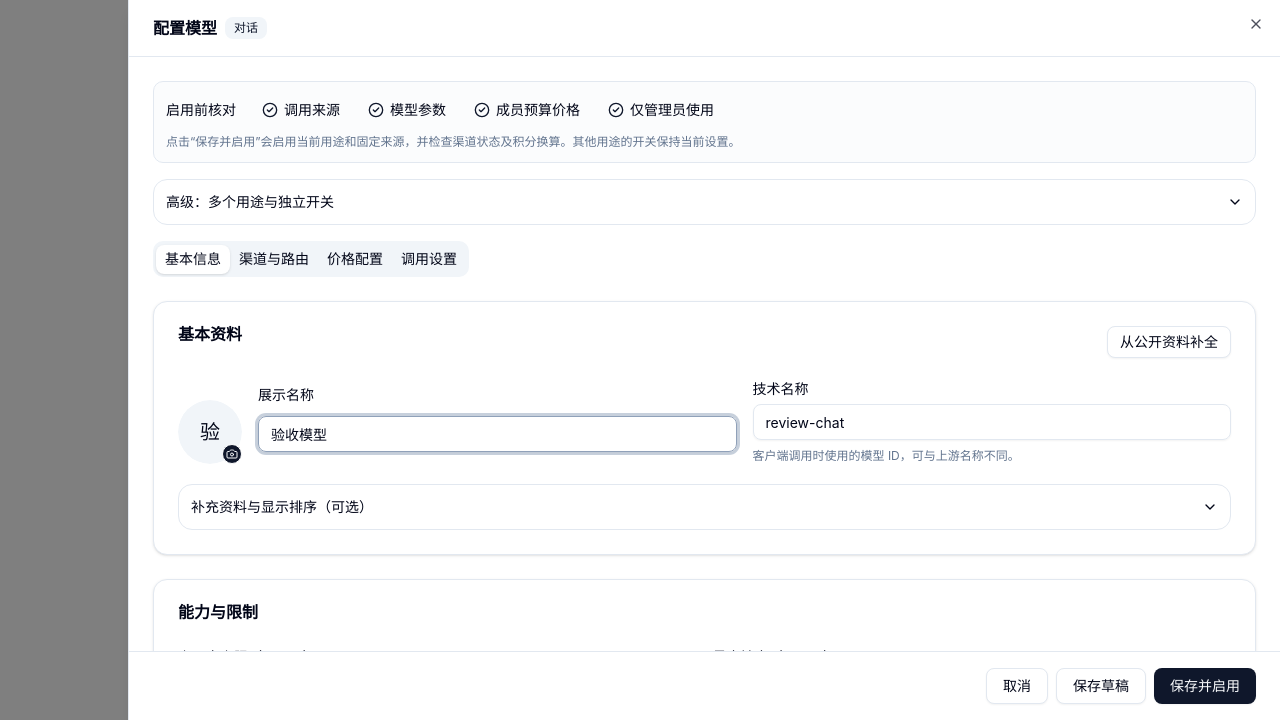
Test case: does not enable a model until organization point conversion is ready
Click the button "保存并启用" at (1205, 686), box 1154,668 -> 1256,704
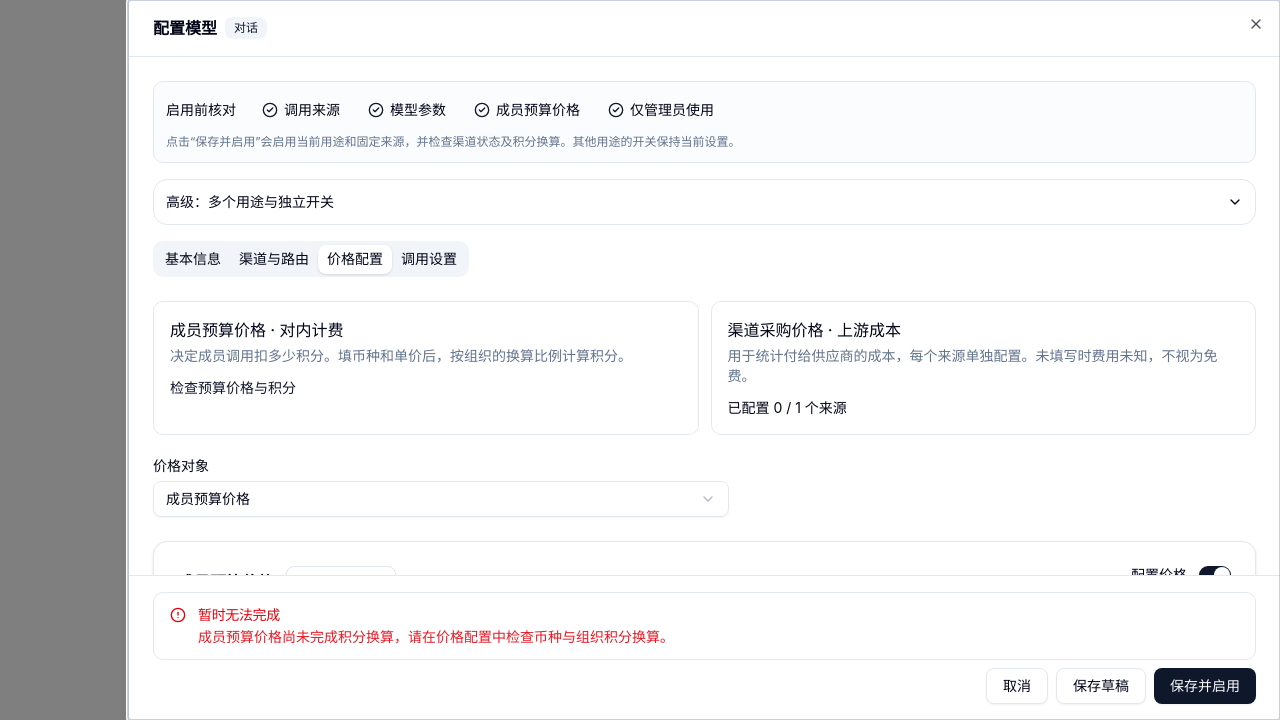
Result: the text "成员预算价格尚未完成积分换算，请在价格配置中检查币种与组织积分换算。" is shown at 198,627 -> 674,647
